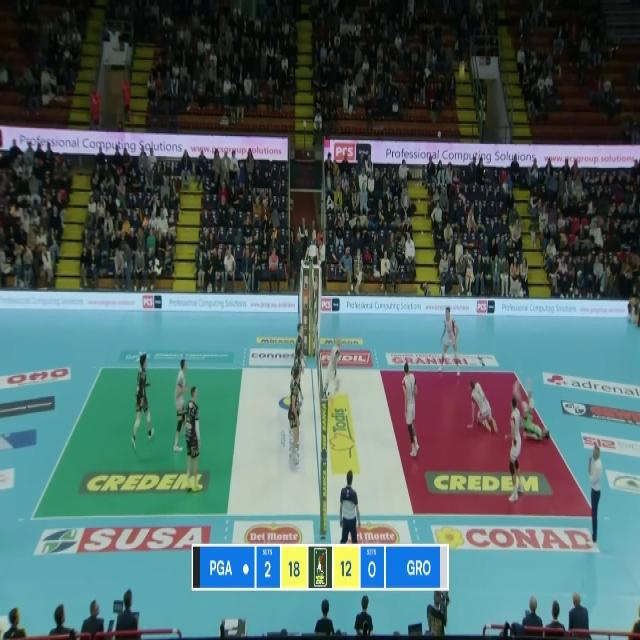volleyball court: (32, 367, 592, 517)
